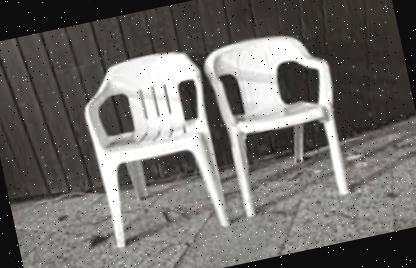chair: (69, 40, 241, 256), (195, 23, 358, 227)
